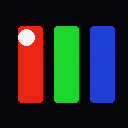2 circle: (18, 29, 34, 45)
